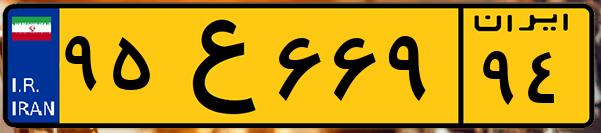4: (525, 38, 570, 115)
5: (110, 28, 158, 98)
6: (270, 28, 330, 110), (330, 28, 385, 110)
9: (385, 28, 445, 110), (57, 26, 110, 100), (475, 38, 525, 113)
ع: (158, 12, 270, 120)
